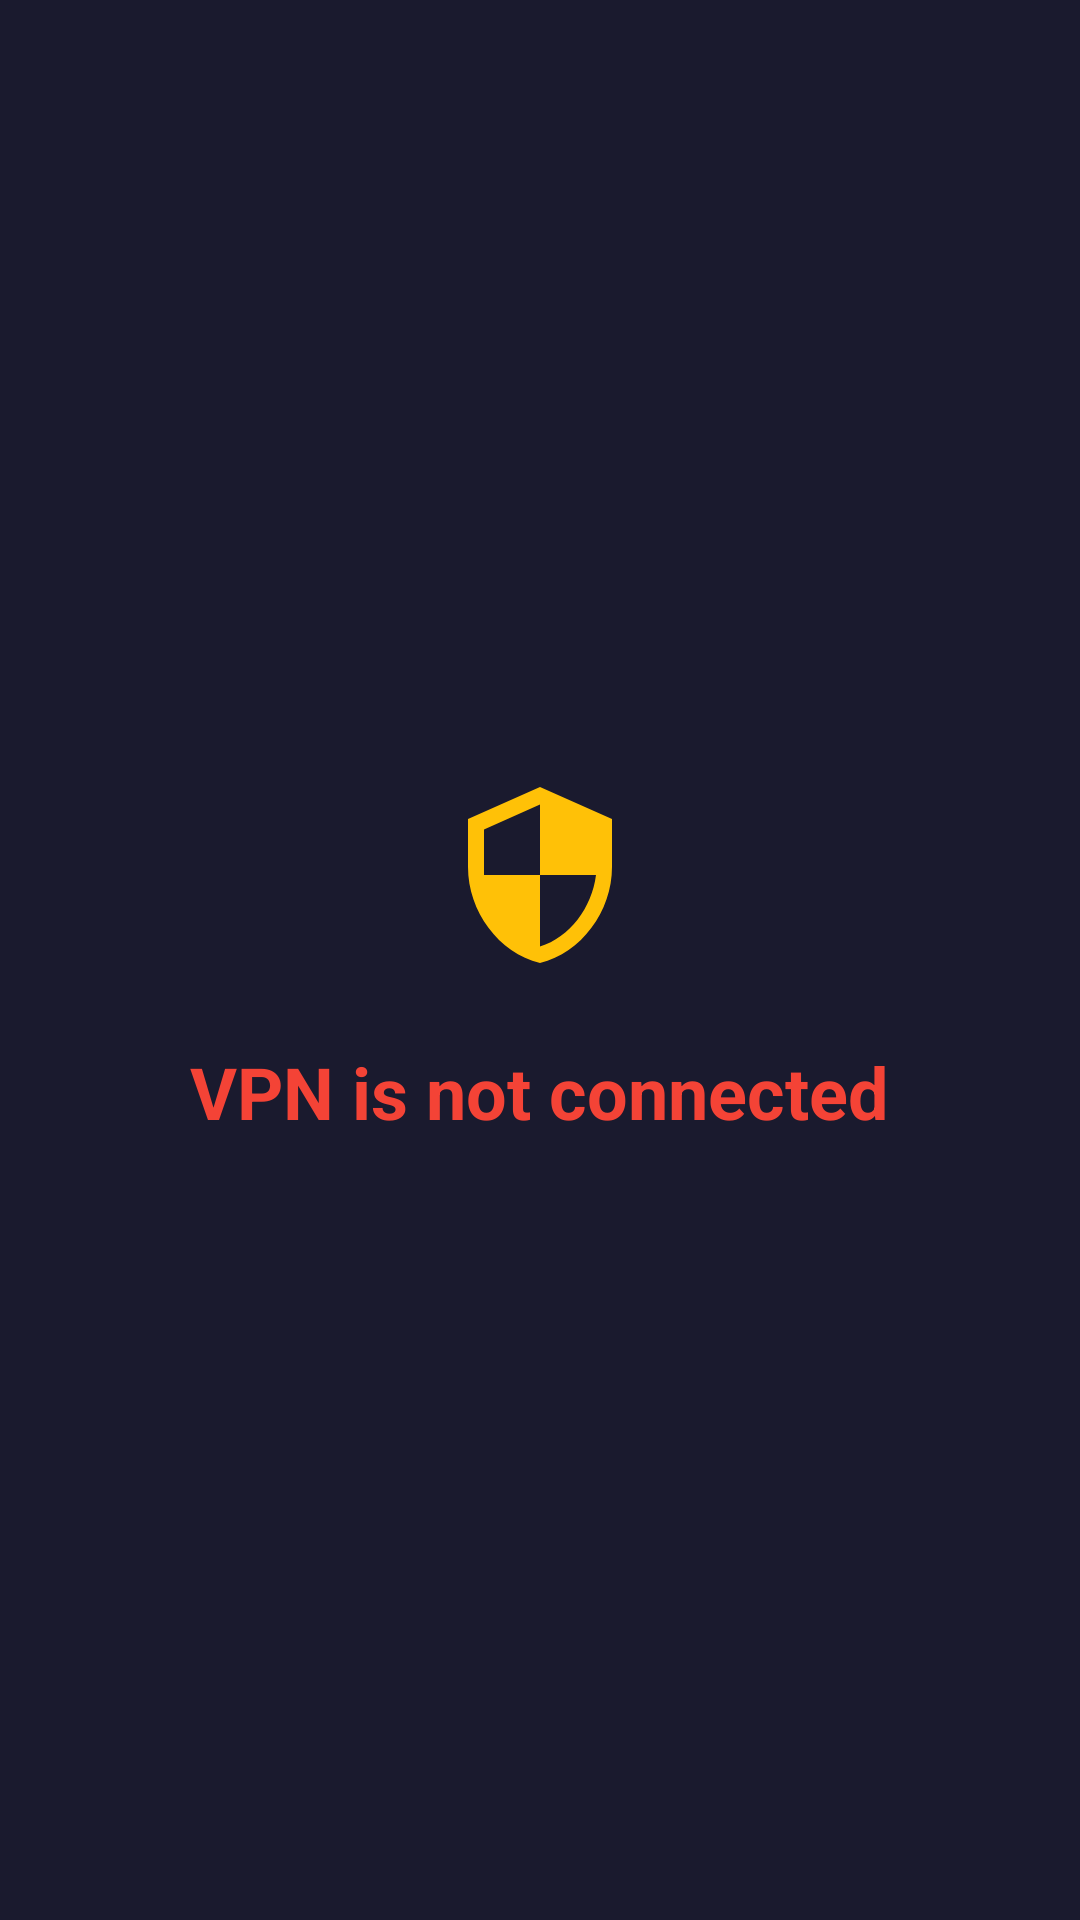

Icon click points for this 1080w x 1920h phone screenshot, format point (x, y):
VPN required: point (540, 875)
